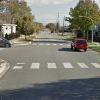Crosswalk: (10, 54, 100, 81)
